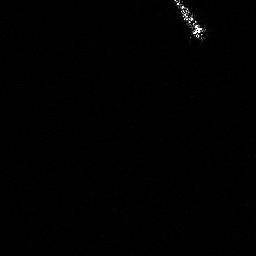ship: (173, 1, 210, 41)
